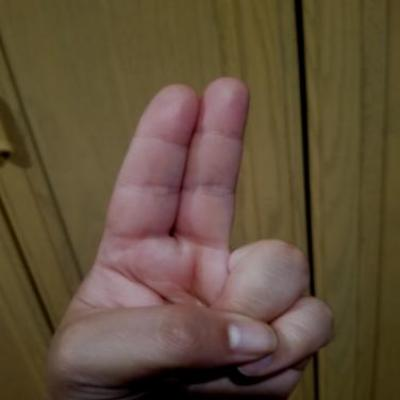hand: (17, 61, 348, 399)
